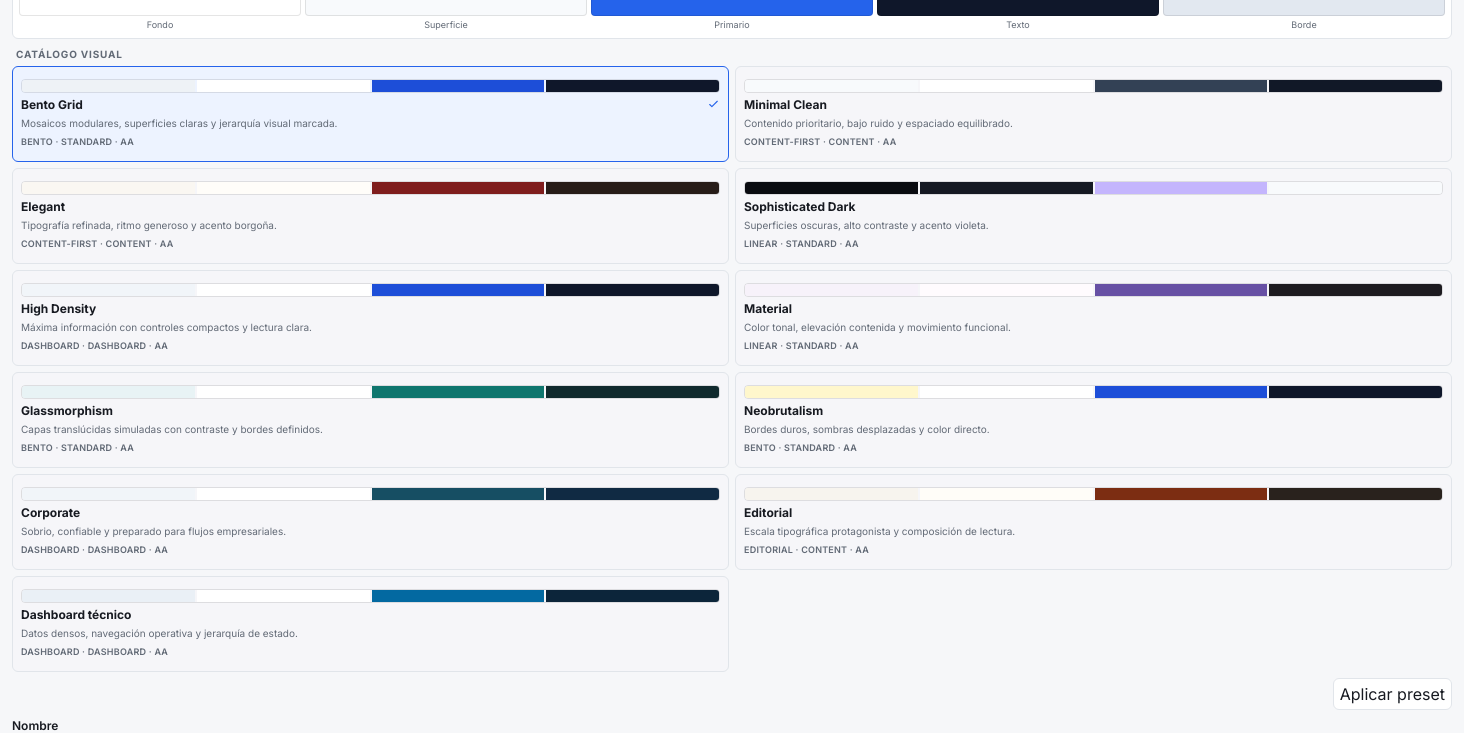
Scenario: M08.1 control de tema de proyecto › expone los once presets y aplica una copia editable mediante historial
Click the radio button labelled "Glassmorphism". click: [370, 392]
box: [12,372,729,468]
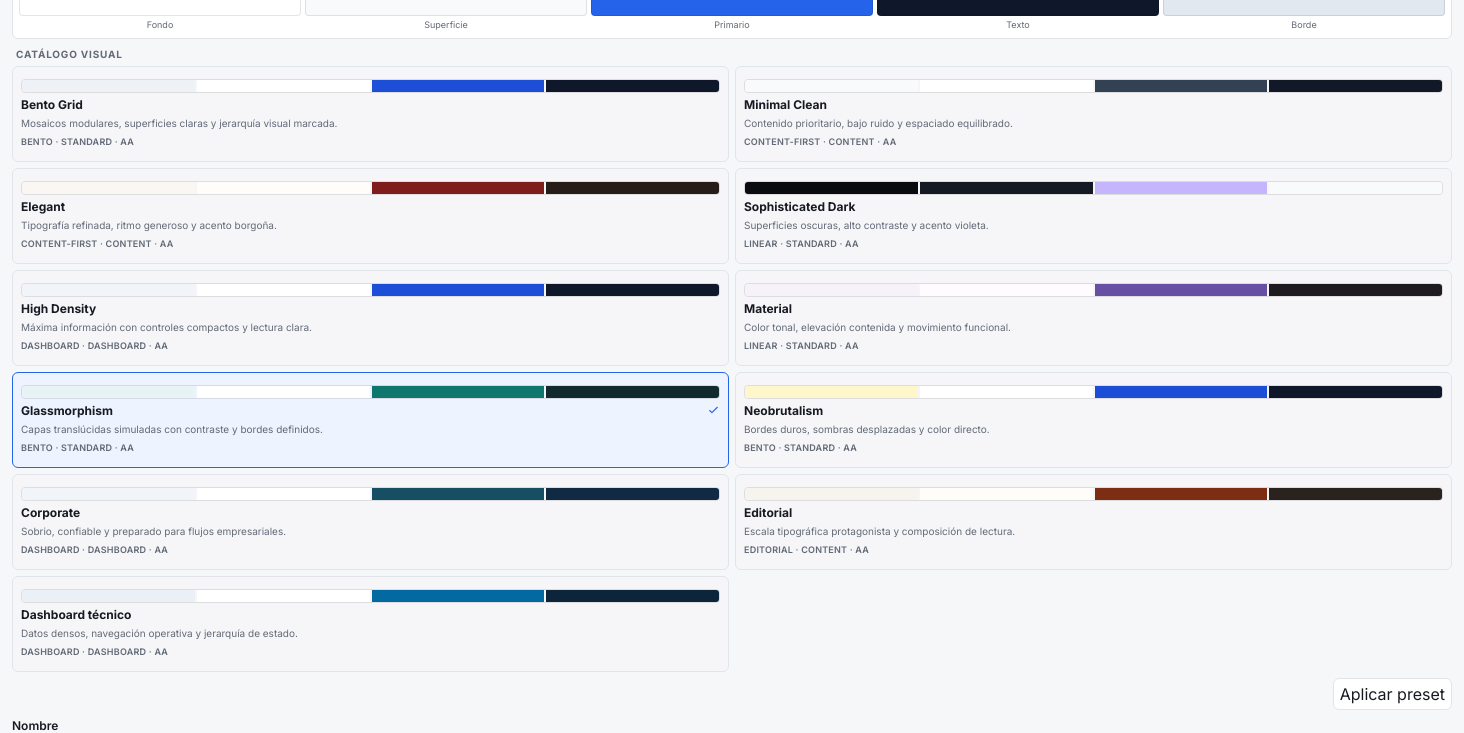
Click the button "Aplicar preset". click: [1392, 694]
box: [1333,678,1452,710]
(page scrolled)
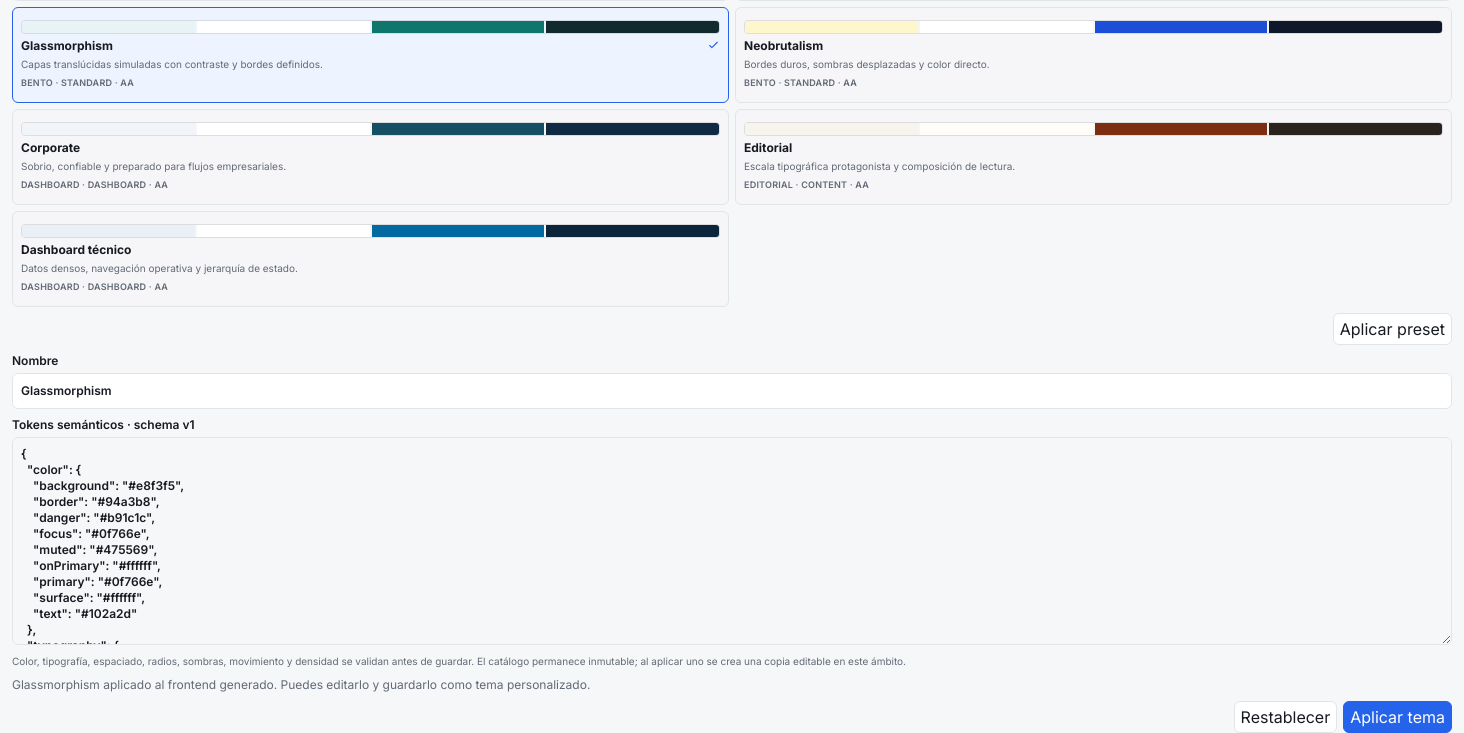
Expected: the text "Glassmorphism" is shown, [21,38,113,54]
Now the text "Glassmorphism aplicado al frontend generado" is shown, box [12,676,590,692]
